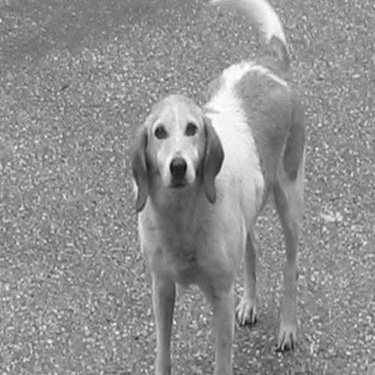dog: (119, 1, 315, 372)
